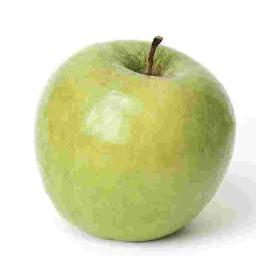apple: (28, 34, 250, 252)
